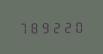eight: (28, 20, 38, 34)
nine: (40, 20, 50, 34)
seven: (17, 20, 27, 34)
two: (62, 19, 72, 33), (51, 20, 61, 33)
zero: (73, 19, 83, 33)
